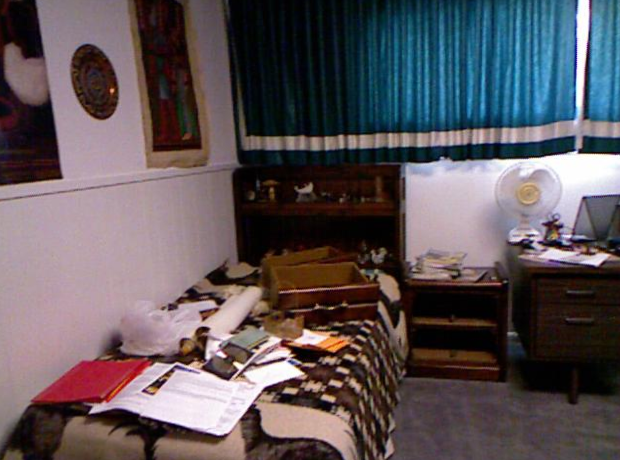cabinet: (407, 263, 508, 375)
cabinetDoor: (543, 308, 613, 354), (546, 279, 613, 302)
table: (514, 241, 620, 403)
